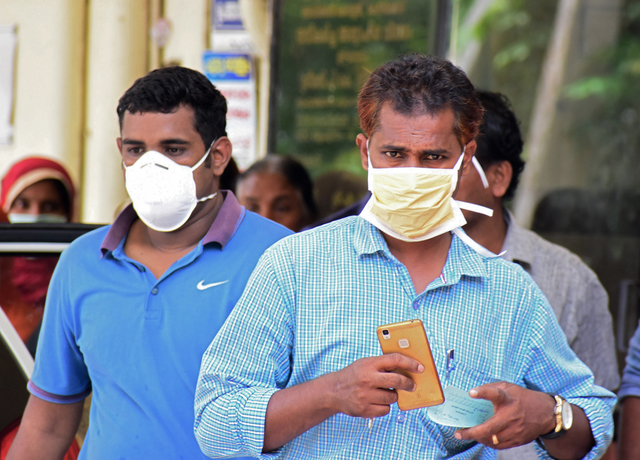mask: (360, 171, 455, 249), (119, 160, 202, 229)
